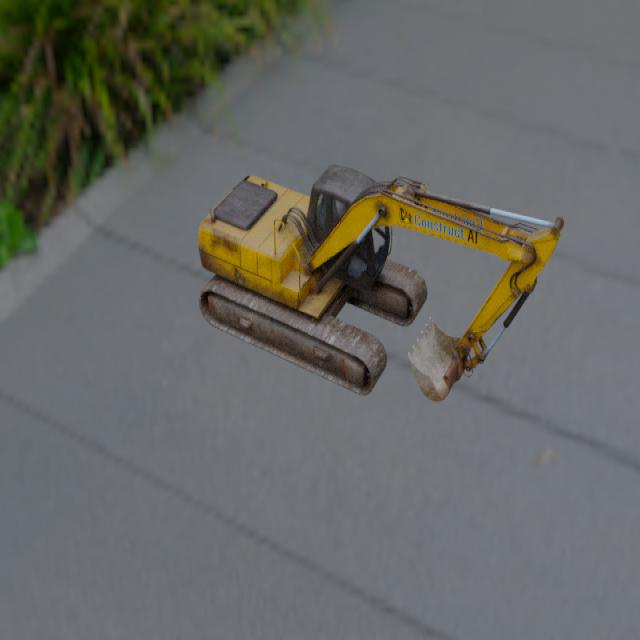excavator: (197, 163, 564, 401)
